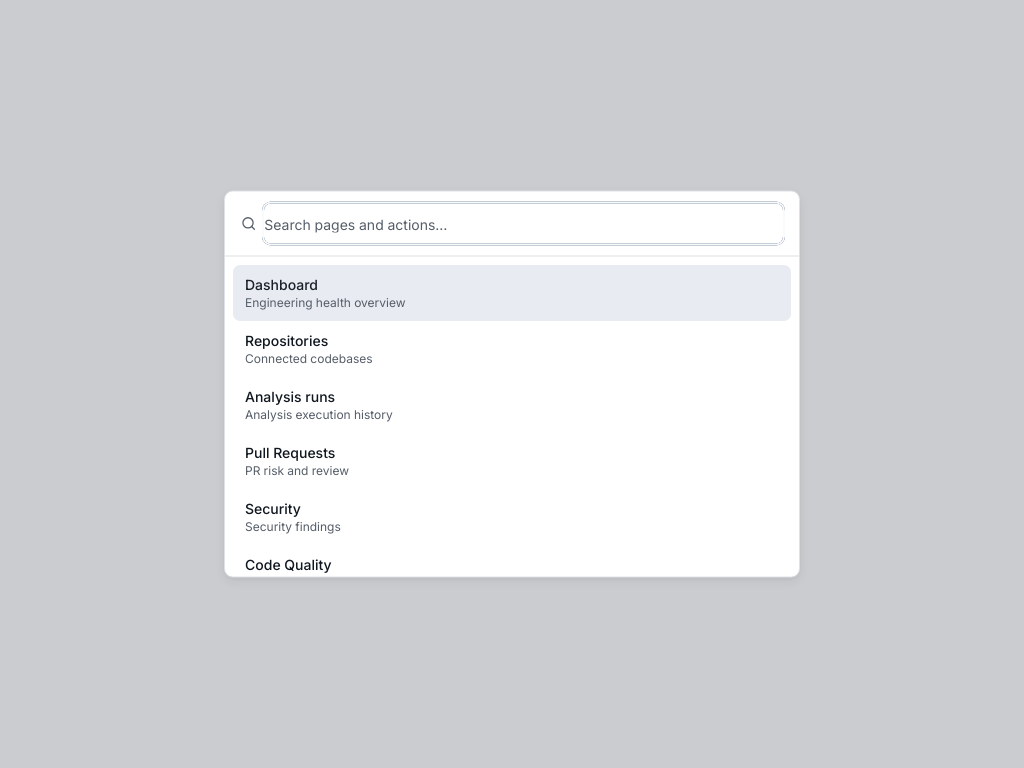
Test: CommandPalette › filters navigation items by query
The image size is (1024, 768).
Type "security" into the field with placeholder "Search pages and actions…". click: (524, 224)
box: left=264, top=204, right=783, bottom=244
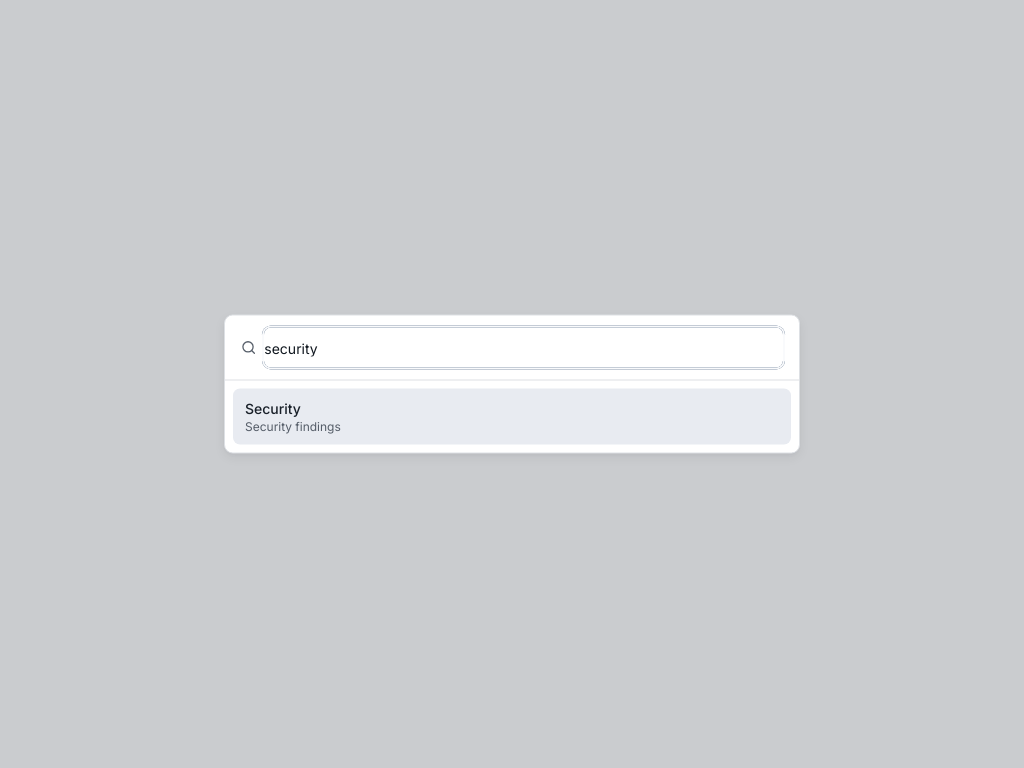
Expected: the option "Security Security findings" is shown, left=233, top=388, right=791, bottom=444
Now the option "Dashboard" is gone
